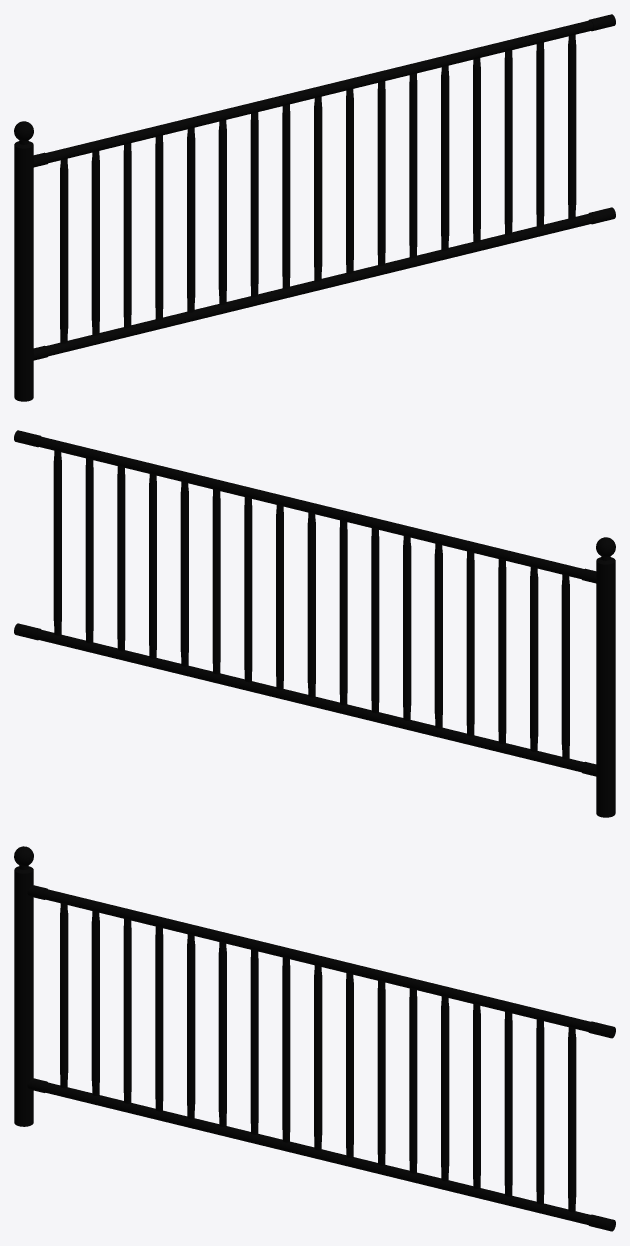
File: Fence1.fbx
The picture shows the model from 3 angles, top to bottom: view 1: azimuth 30°, elevation 25°; view 2: azimuth 150°, elevation 25°; view 3: azimuth 330°, elevation 25°; orthographic projection.
Visible parts, largest first — view 1: pCylinder279; view 2: pCylinder279; view 3: pCylinder279.
Boxes of the visible parts, x1,y1,x2,y2 form: pCylinder279: (14, 14, 615, 401); pCylinder279: (14, 430, 615, 817); pCylinder279: (14, 846, 615, 1231).
Bounding box in the file's own units: 132 × 58.05 × 3.85.
